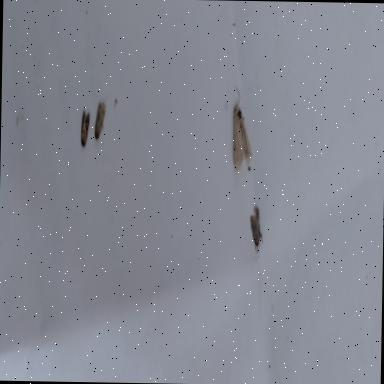pbw: (250, 206, 264, 254), (94, 101, 106, 140), (81, 110, 90, 148)
